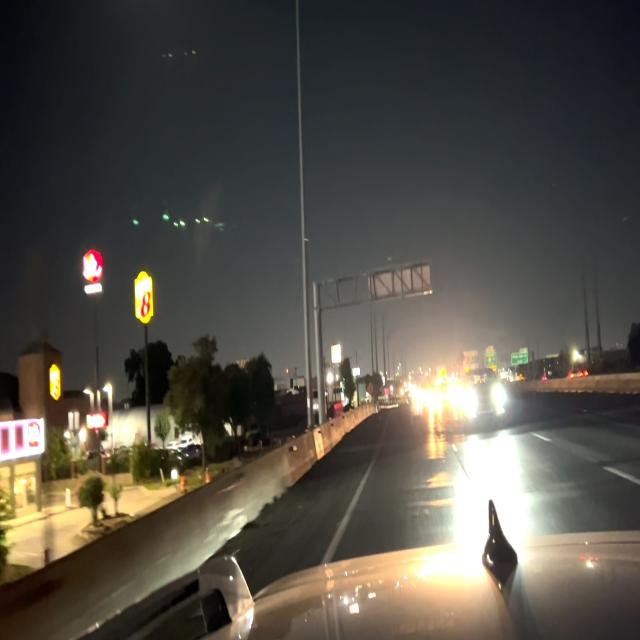back-of-sign: (365, 261, 433, 301)
